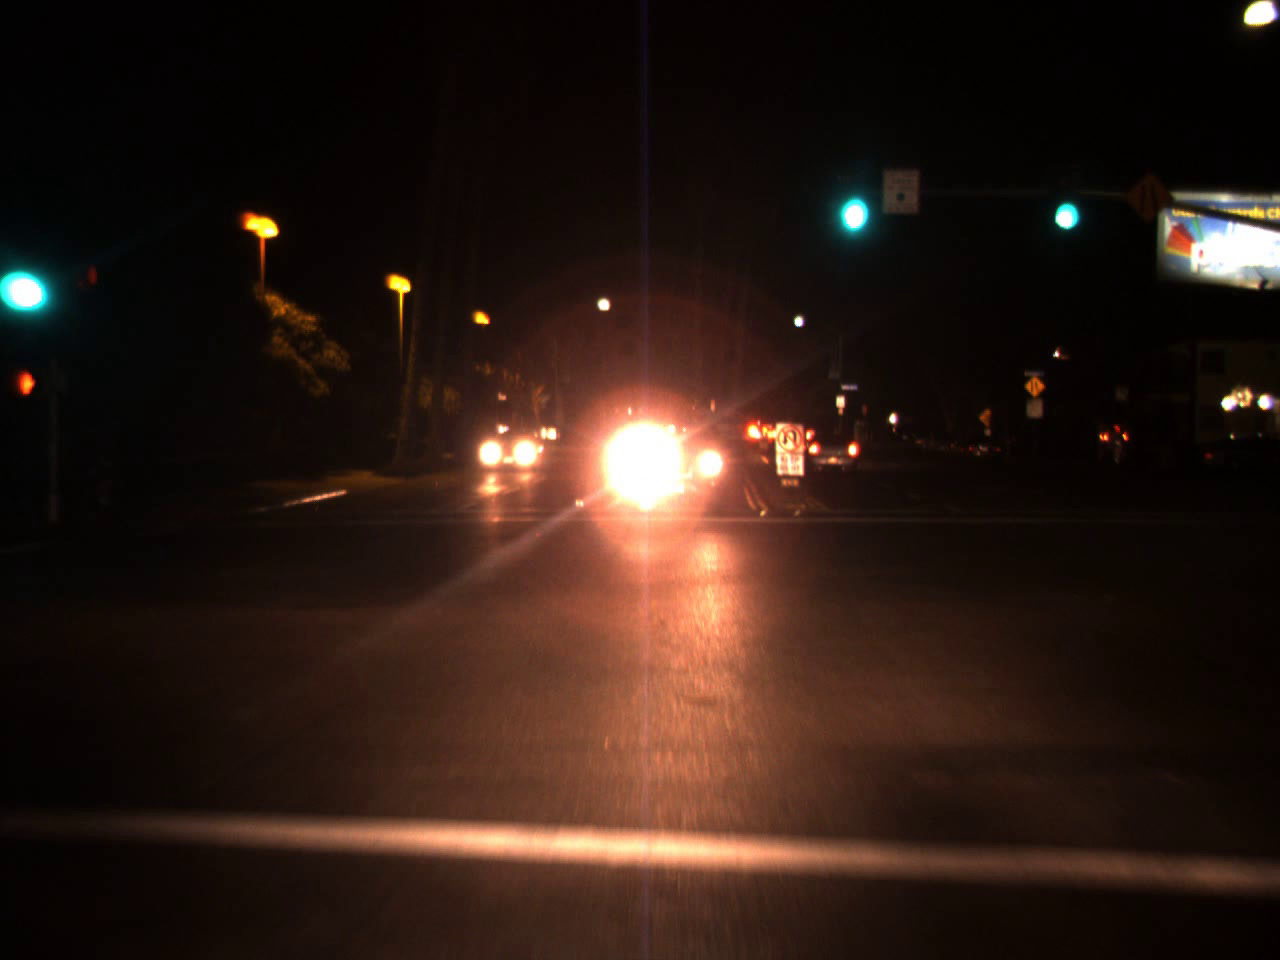go: (828, 157, 874, 244), (0, 238, 45, 319), (1046, 174, 1082, 234)
